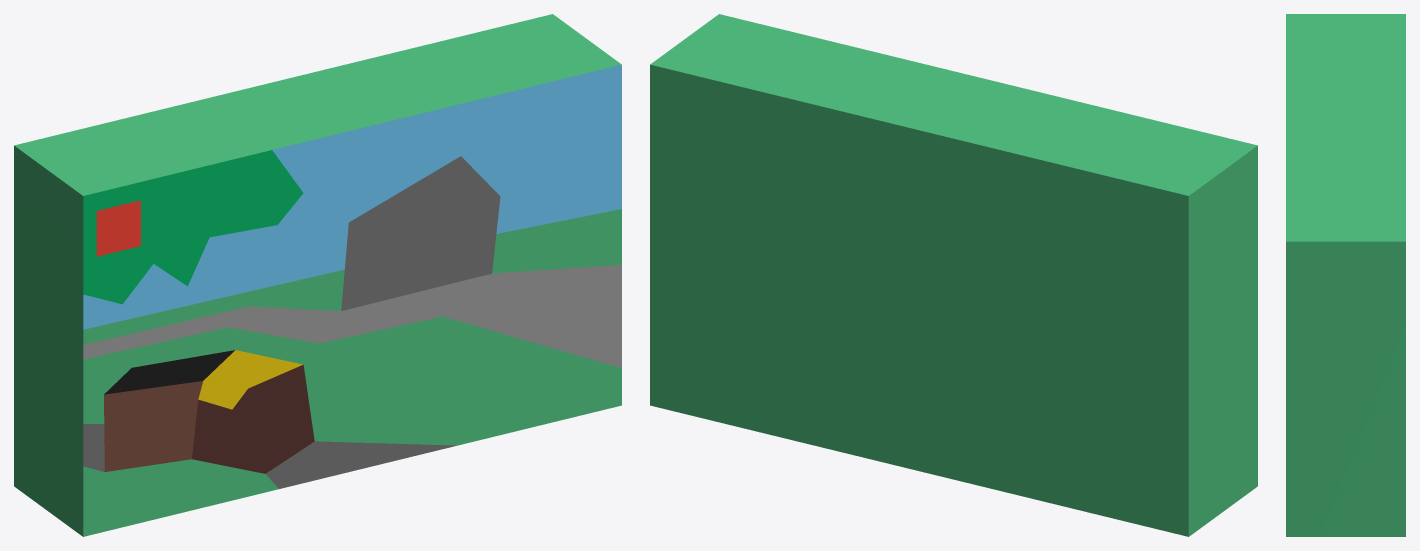
The model's file is toy_029.glb.
3 renders of one model, left to right at view 1: azimuth 30°, elevation 25°; view 2: azimuth 150°, elevation 25°; view 3: azimuth 270°, elevation 25°, orthographic. The views are drawn at different scales.
Parts seen in each view (by area): view 1: toy_029; view 2: toy_029; view 3: toy_029.
Boxes of the visible parts, <box> form: toy_029: <box>14,14,621,536</box>; toy_029: <box>650,14,1257,536</box>; toy_029: <box>1286,14,1405,536</box>.
Size of the model in its own units: 0.5327 by 0.3221 by 0.1184.
1 material, 1 textured.
